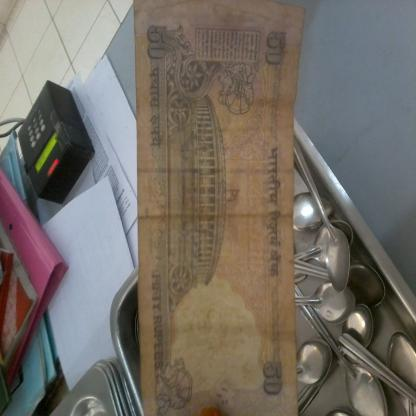Old50Back: (133, 0, 306, 416)
